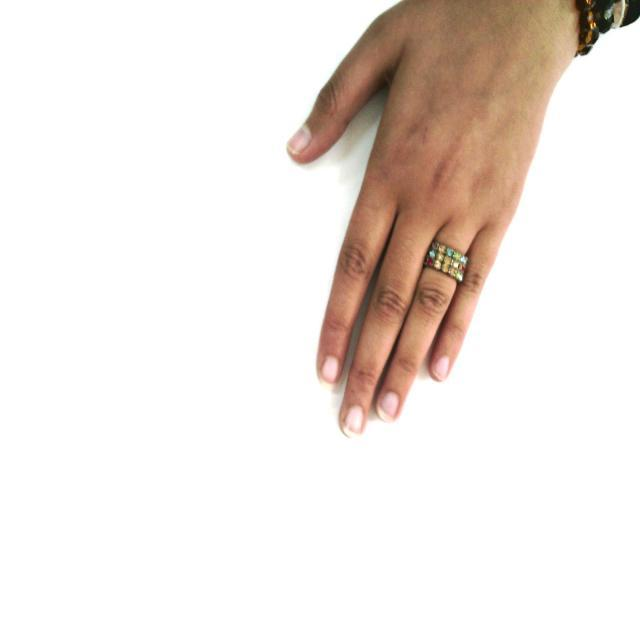Fingernail: (379, 392, 399, 421), (345, 407, 364, 436), (288, 127, 309, 152), (322, 357, 338, 382), (434, 358, 449, 380)
